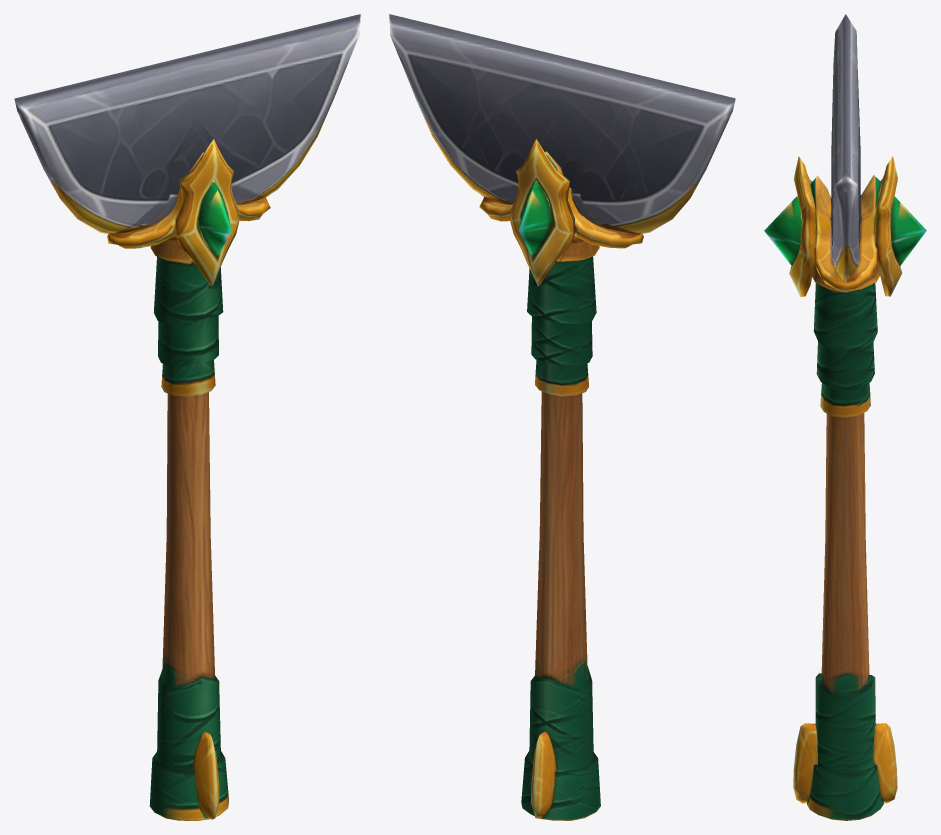
The model's file is azada-elfica.glb.
3 renders of one model, left to right at view 1: azimuth 30°, elevation 25°; view 2: azimuth 150°, elevation 25°; view 3: azimuth 270°, elevation 25°, orthographic. The views are drawn at different scales.
Parts seen in each view (by area): view 1: 0; view 2: 0; view 3: 0.
Part boxes in pixels (x1,y1,x2,y2): 0: (14, 14, 360, 820); 0: (389, 14, 735, 820); 0: (764, 14, 926, 820).
Size of the model in its own units: 0.4838 by 1 by 0.2078.
Materials: 1 (1 with a texture image).
